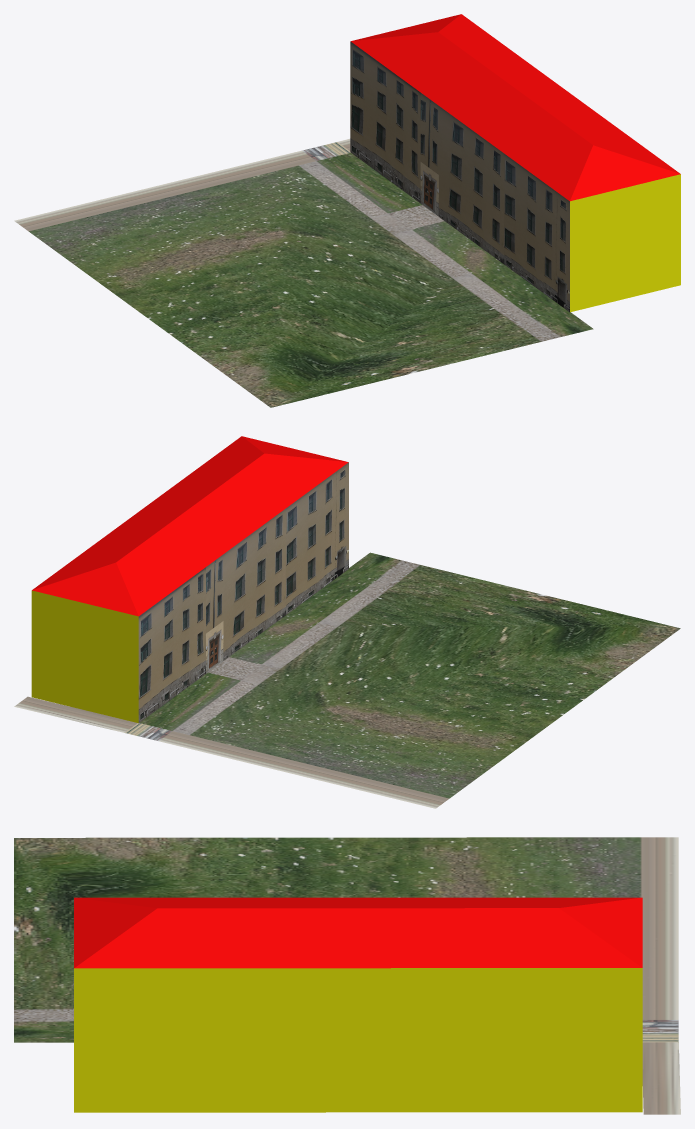
3 views of the same model, one above another, from view 1: azimuth 30°, elevation 25°; view 2: azimuth 150°, elevation 25°; view 3: azimuth 270°, elevation 25° (orthographic). The views are drawn at different scales.
Parts seen in each view (by area): view 1: suelo.001, map_4.osm_buildings.046; view 2: suelo.001, map_4.osm_buildings.046; view 3: map_4.osm_buildings.046, suelo.001.
Boxes of the visible parts, x1=… form: suelo.001: x1=14, y1=139, x2=593, y2=407; map_4.osm_buildings.046: x1=350, y1=14, x2=680, y2=312; suelo.001: x1=14, y1=552, x2=680, y2=808; map_4.osm_buildings.046: x1=31, y1=436, x2=348, y2=723; map_4.osm_buildings.046: x1=74, y1=897, x2=642, y2=1112; suelo.001: x1=14, y1=837, x2=680, y2=1114.
Bounding box in the file's own units: 72.25 × 20.53 × 73.43.
3 materials, 1 textured.
